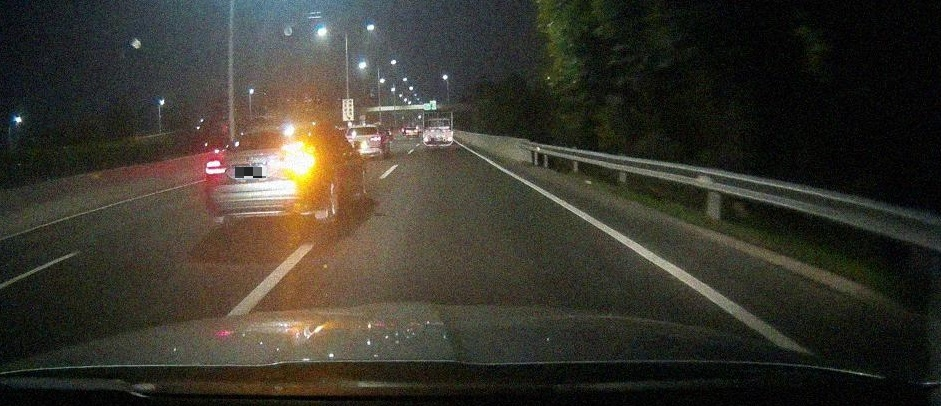L_light: (205, 160, 228, 174)
R_light: (285, 156, 314, 172)
T_light: (263, 128, 282, 134)
night-right: (203, 121, 327, 227)
plate_1: (235, 167, 266, 178)
